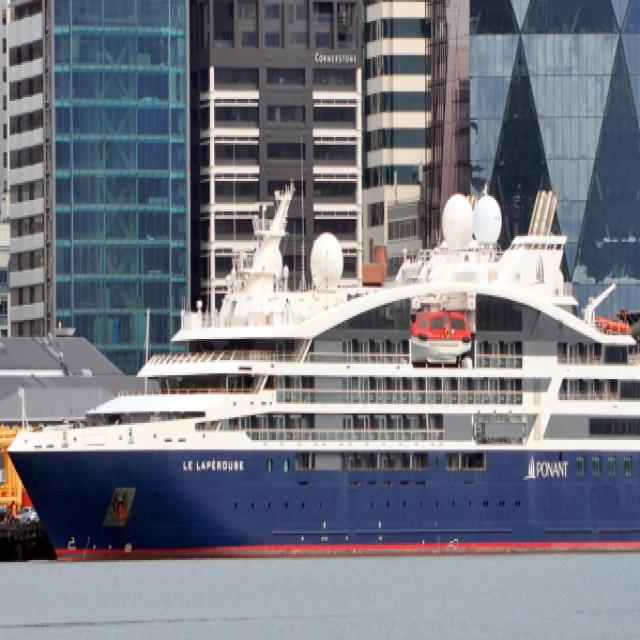cruises: (4, 170, 640, 565)
